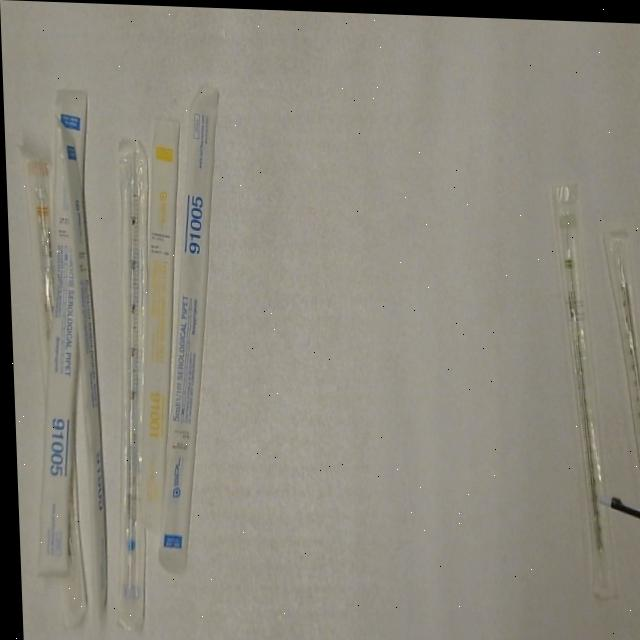Serelogical Pipet 1 mL: (123, 112, 195, 533)
Serelogical Pipet 10 mL: (22, 152, 67, 394)
Serelogical Pipet 2 mL: (546, 173, 619, 600)
Serelogical Pipet 5 mL: (138, 81, 236, 575), (19, 83, 104, 582), (93, 133, 162, 633), (55, 118, 110, 625)
